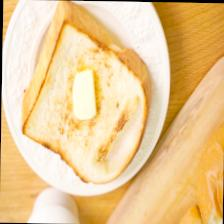bread: (18, 0, 151, 184)
